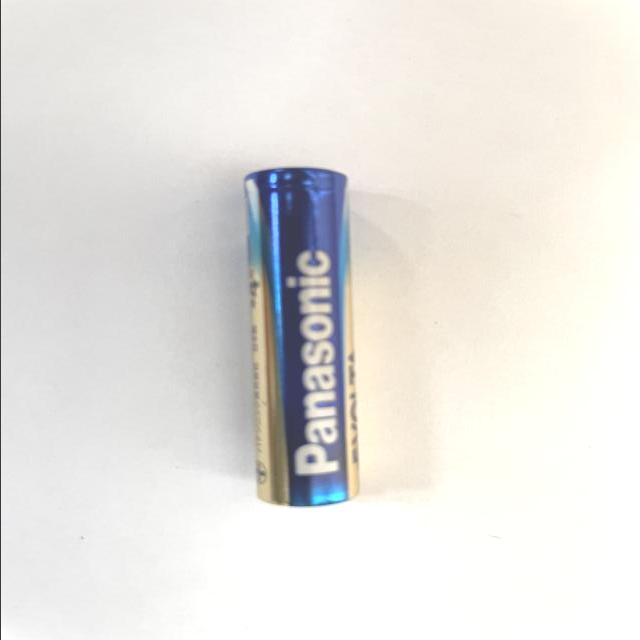AA: (239, 163, 365, 518)
